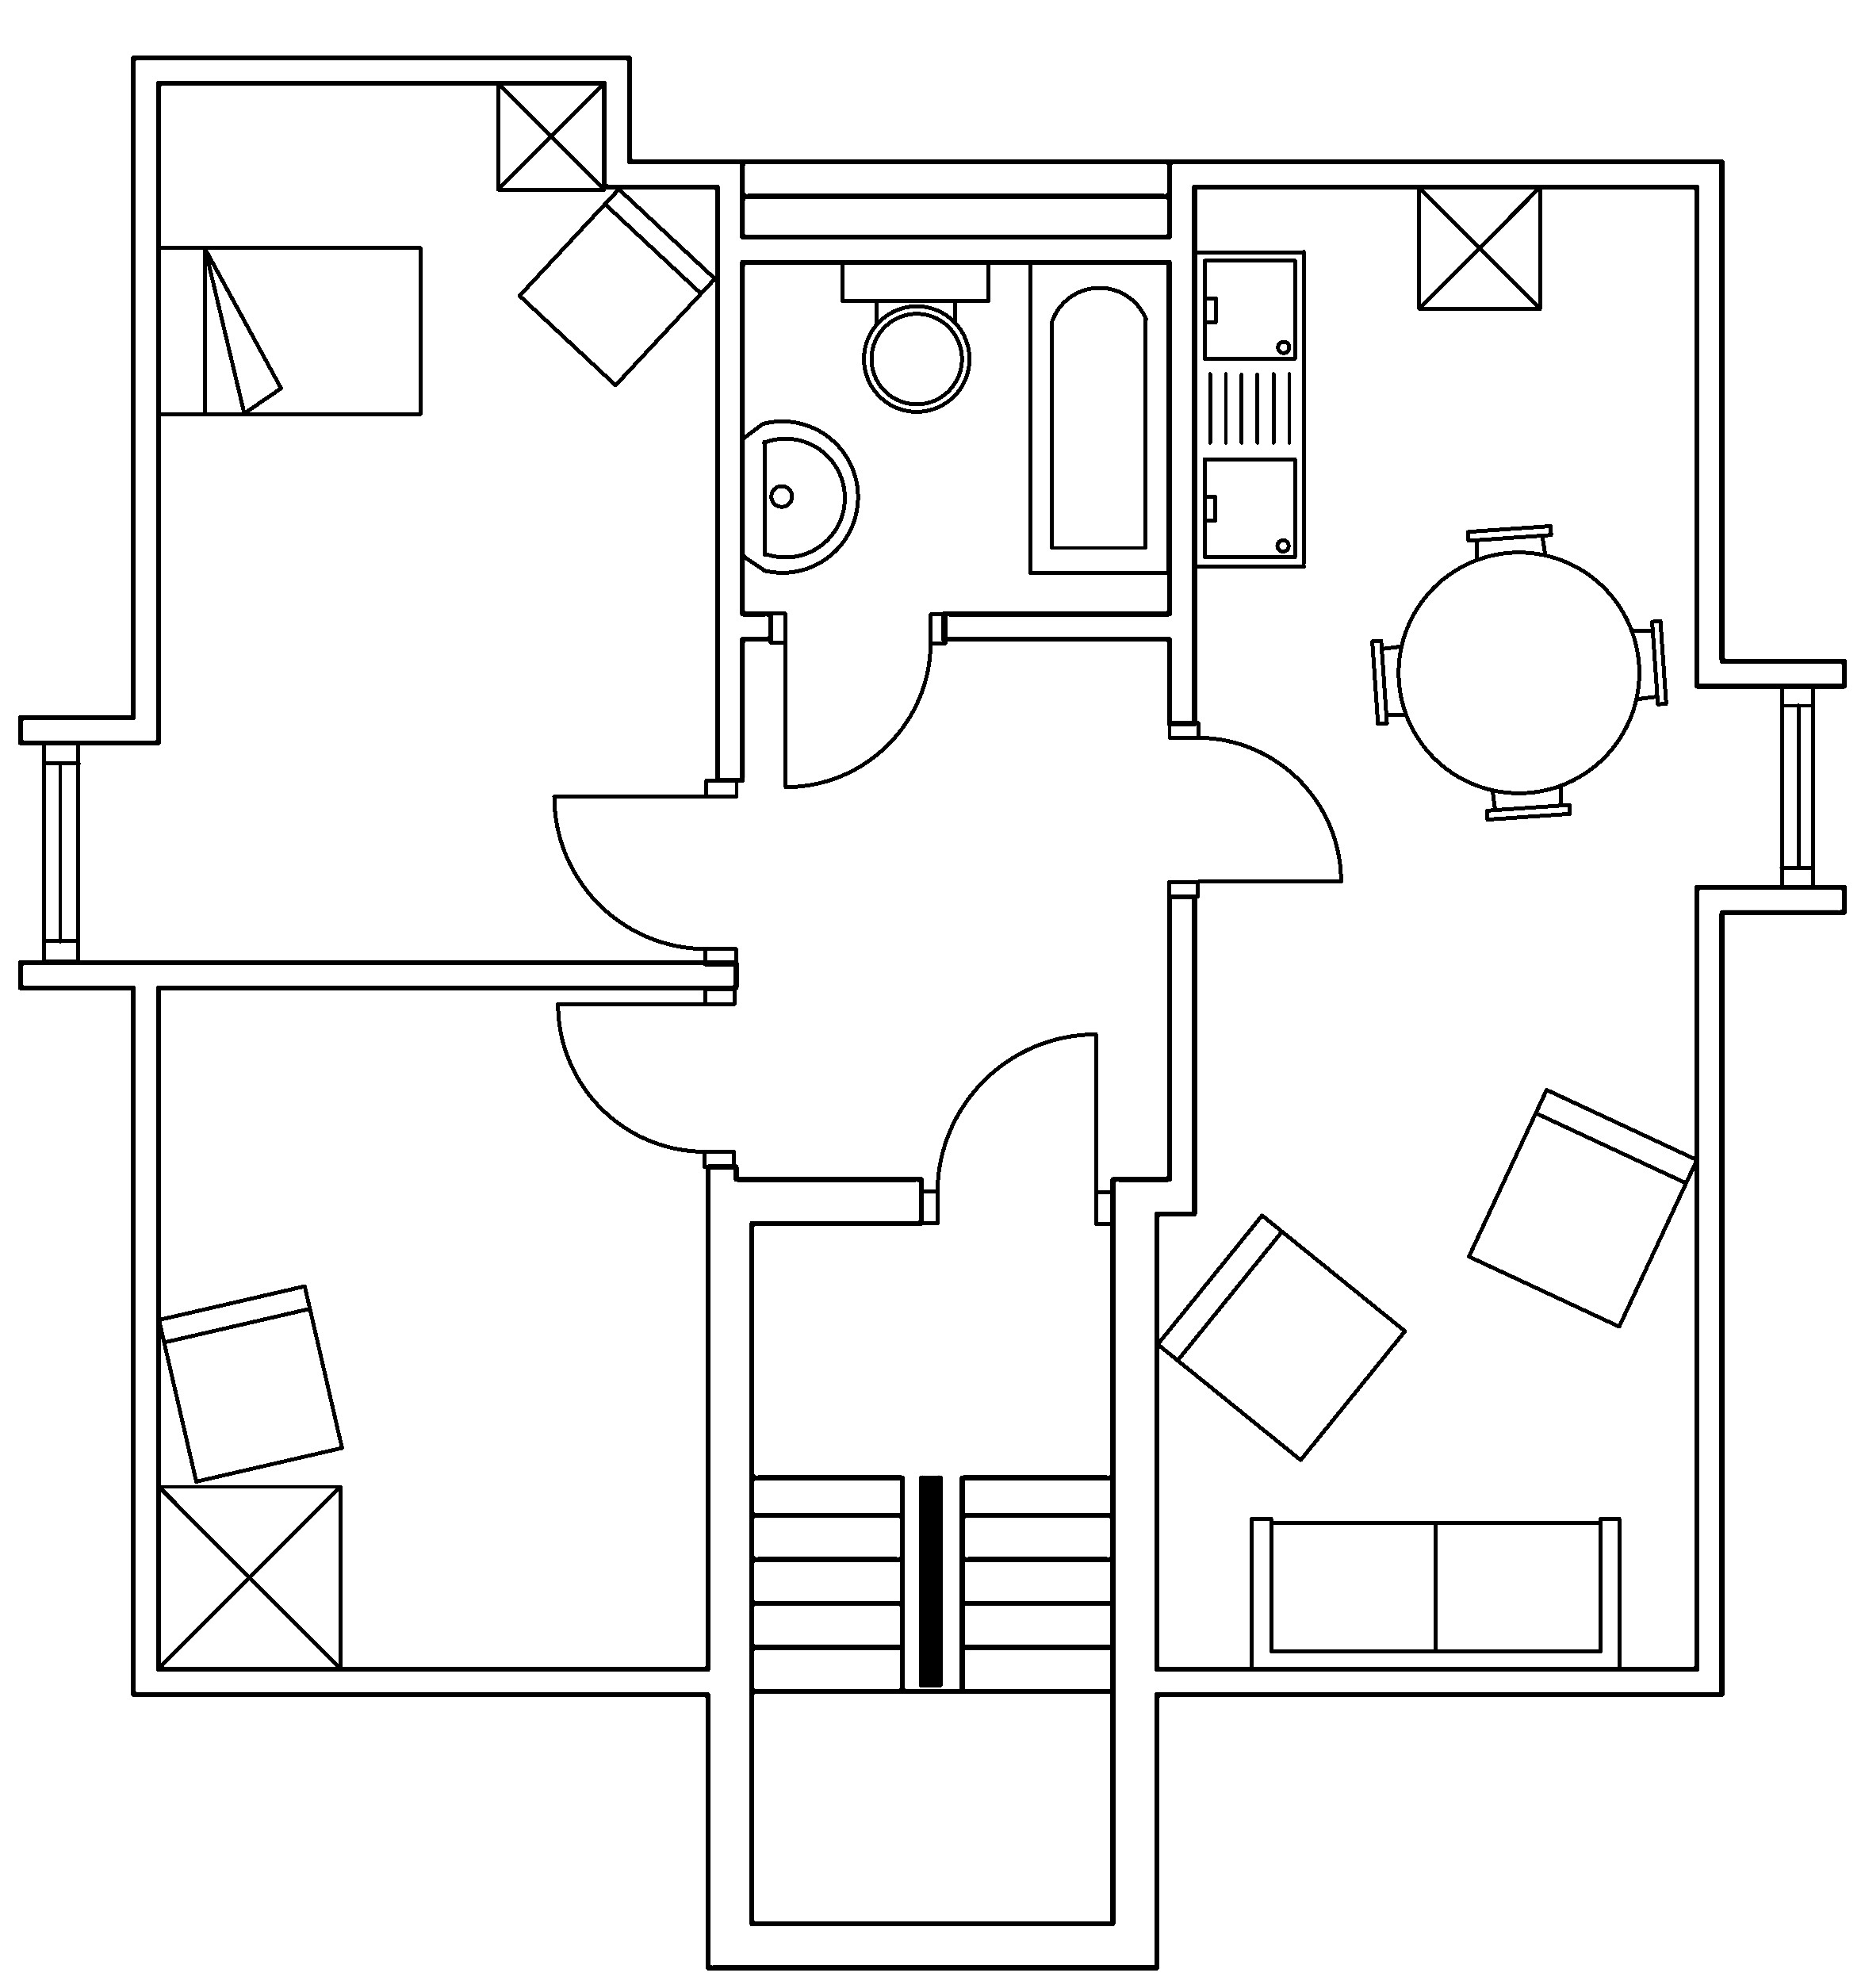bed: (154, 244, 422, 417)
coffee_table: (154, 1481, 342, 1671), (1416, 182, 1542, 310), (494, 79, 606, 191)
large_sink: (840, 258, 990, 412)
large_sofa: (1248, 1515, 1621, 1672)
round_table: (1369, 522, 1669, 822)
small_sink: (740, 419, 859, 573)
small_sofa: (1153, 1211, 1408, 1462), (1465, 1085, 1698, 1329), (515, 186, 717, 387), (156, 1282, 344, 1483)
tub: (1027, 258, 1171, 575)
twin_sink: (1192, 247, 1308, 570)
